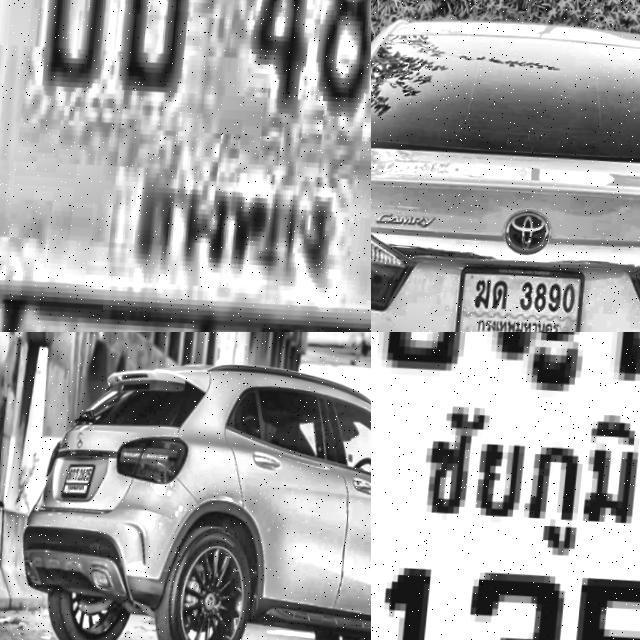license-plate: (0, 0, 371, 332), (371, 332, 640, 640), (456, 257, 587, 332), (63, 460, 97, 499)
